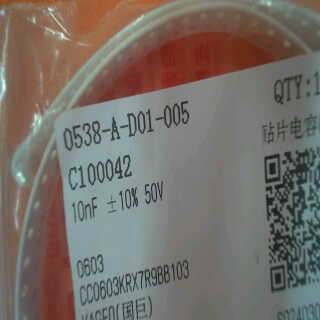10nF: (69, 193, 101, 225)
